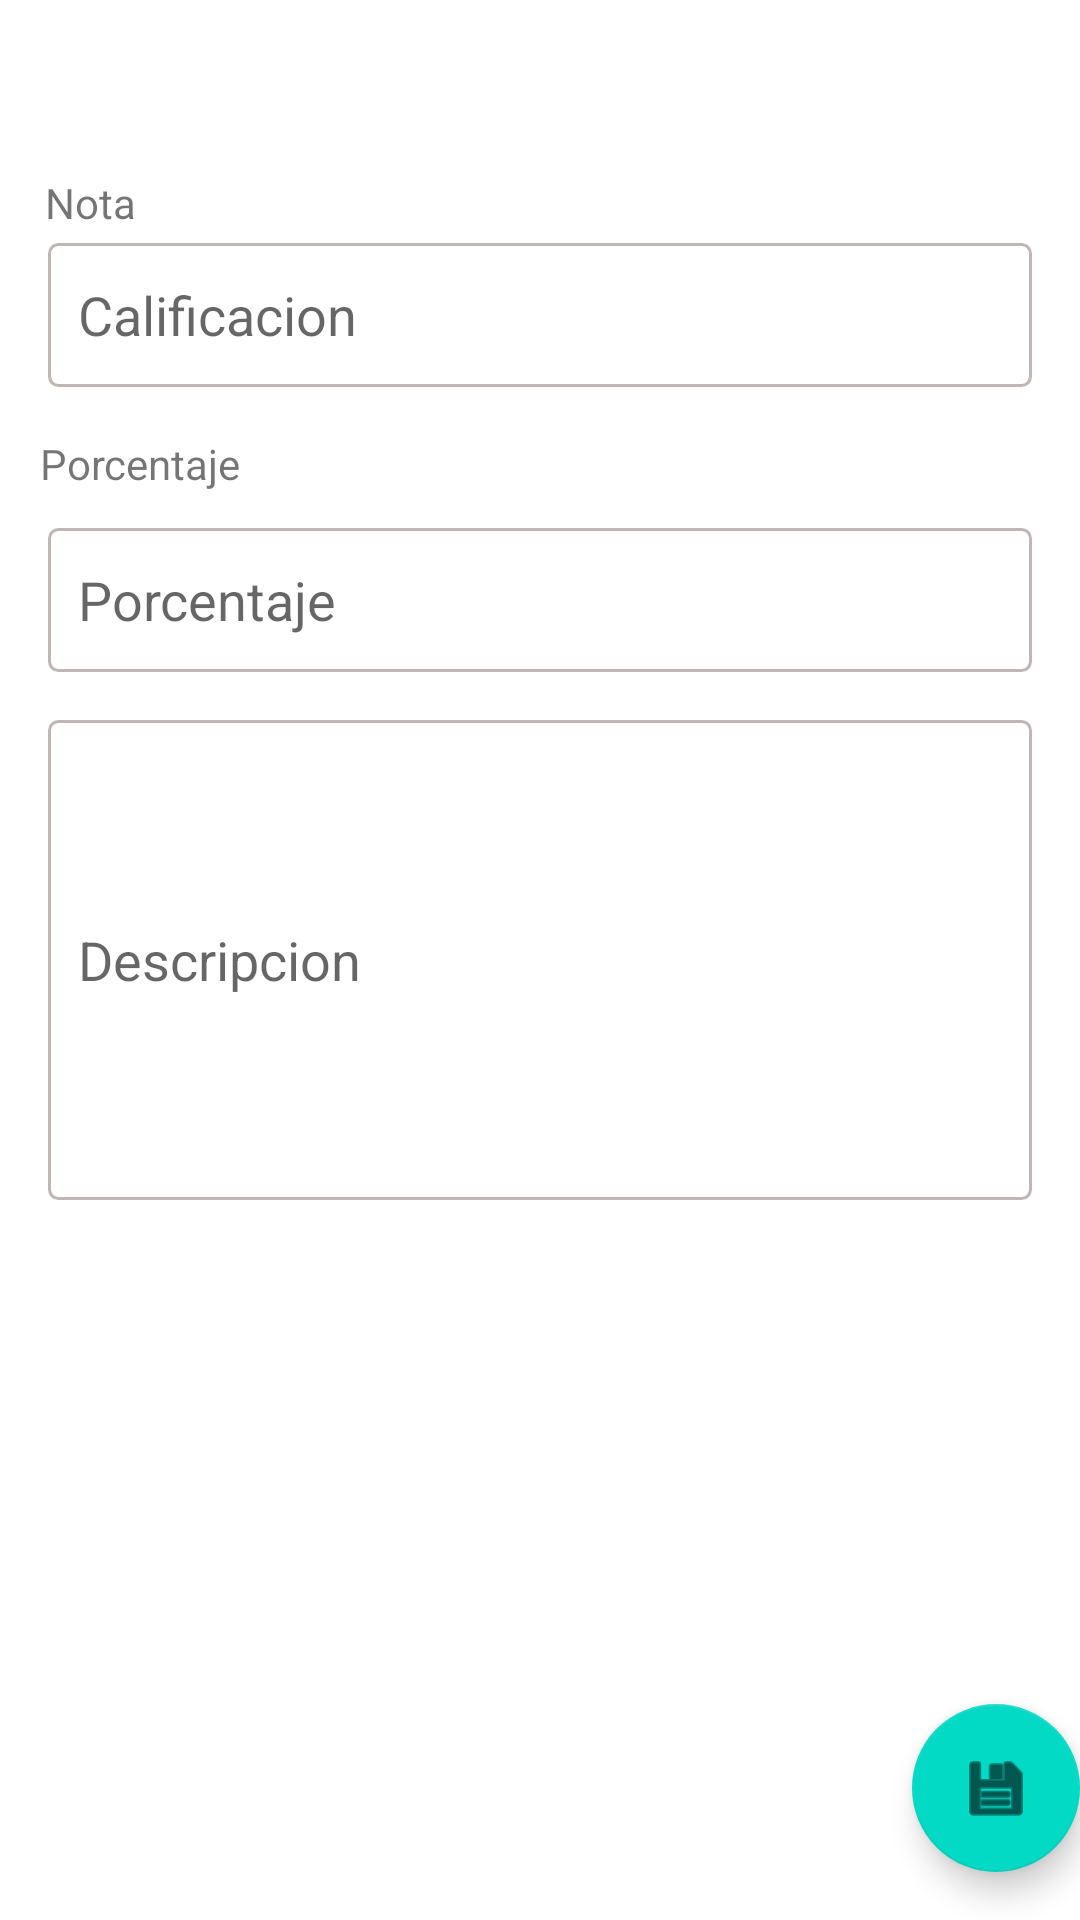

Icons on this 1080 x 1920 Android screen, each with the point to tap as point (x, y):
save: point (996, 1788)
